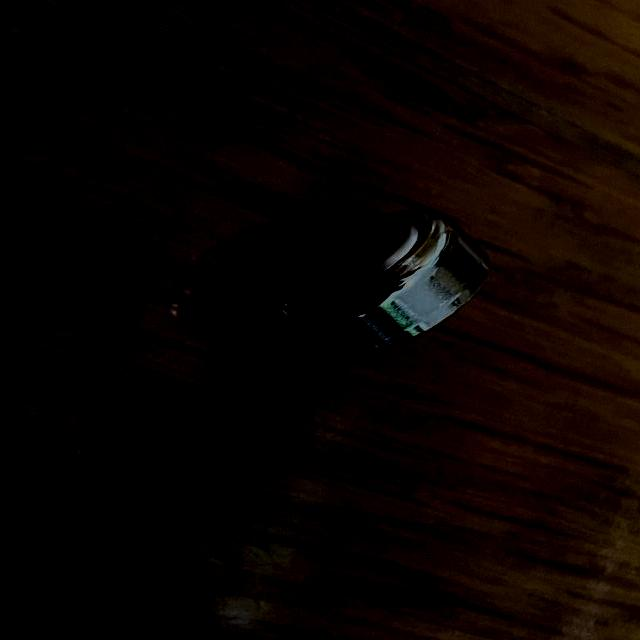COIN: (271, 206, 494, 361)
